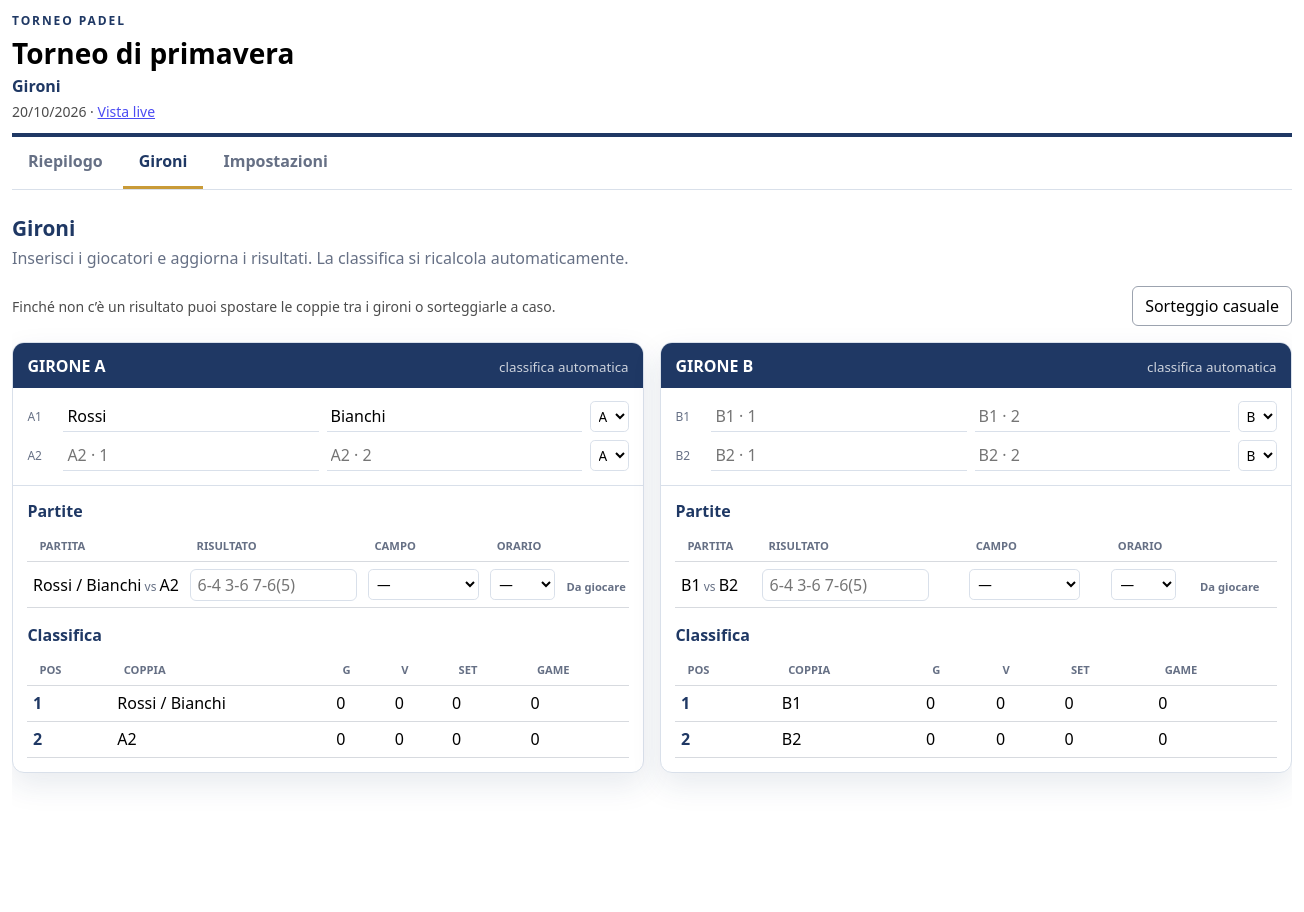
it: TournamentPage › groups tab › saves a result set by set and shows the standings computed by the server
Type "6-3 7-6 (4)" into the field named "Risultato di Rossi / Bianchi – A2" at (274, 585), box [190, 569, 357, 601]
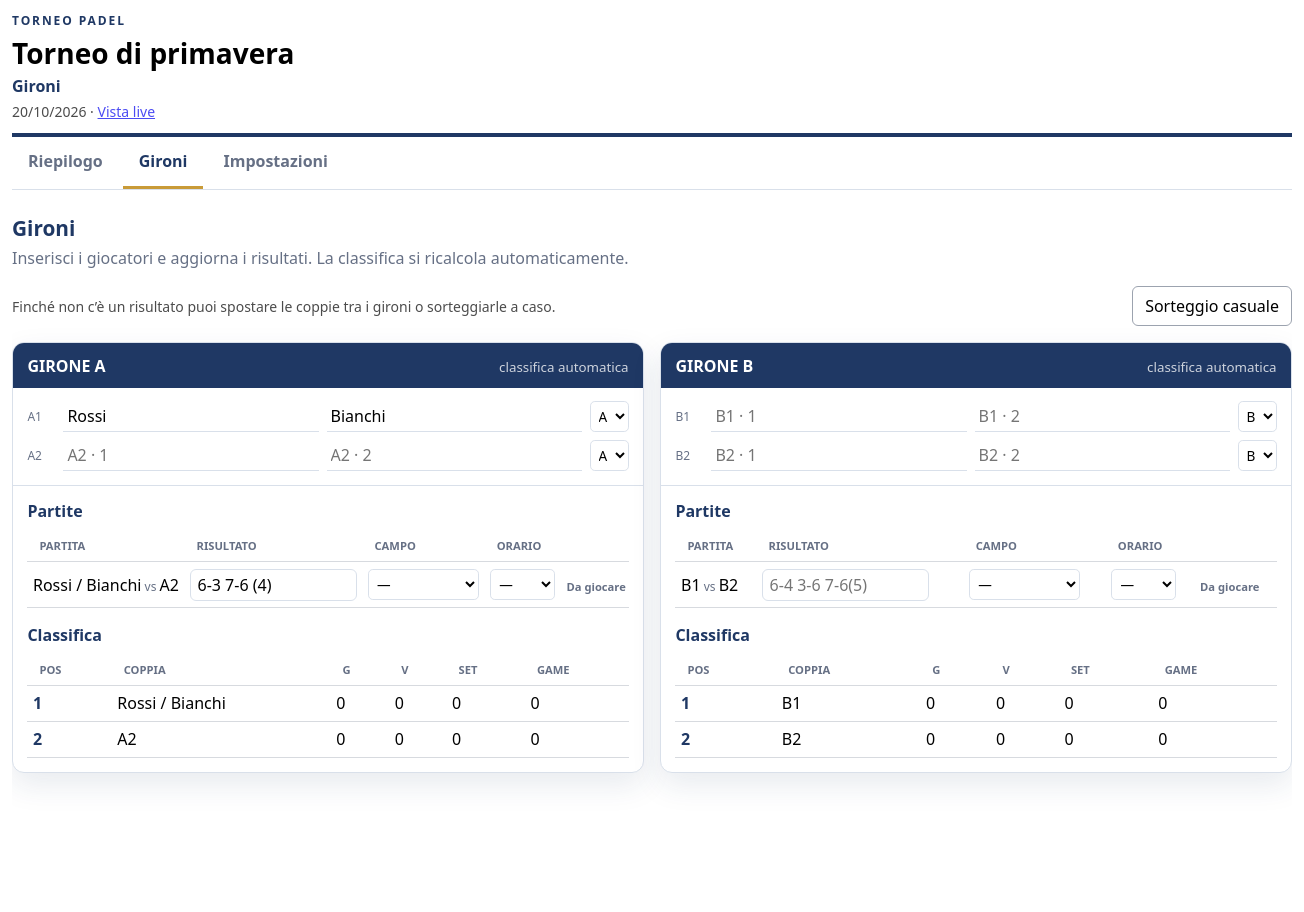
Leave the field named "Risultato di Rossi / Bianchi – A2", box [190, 569, 357, 601]
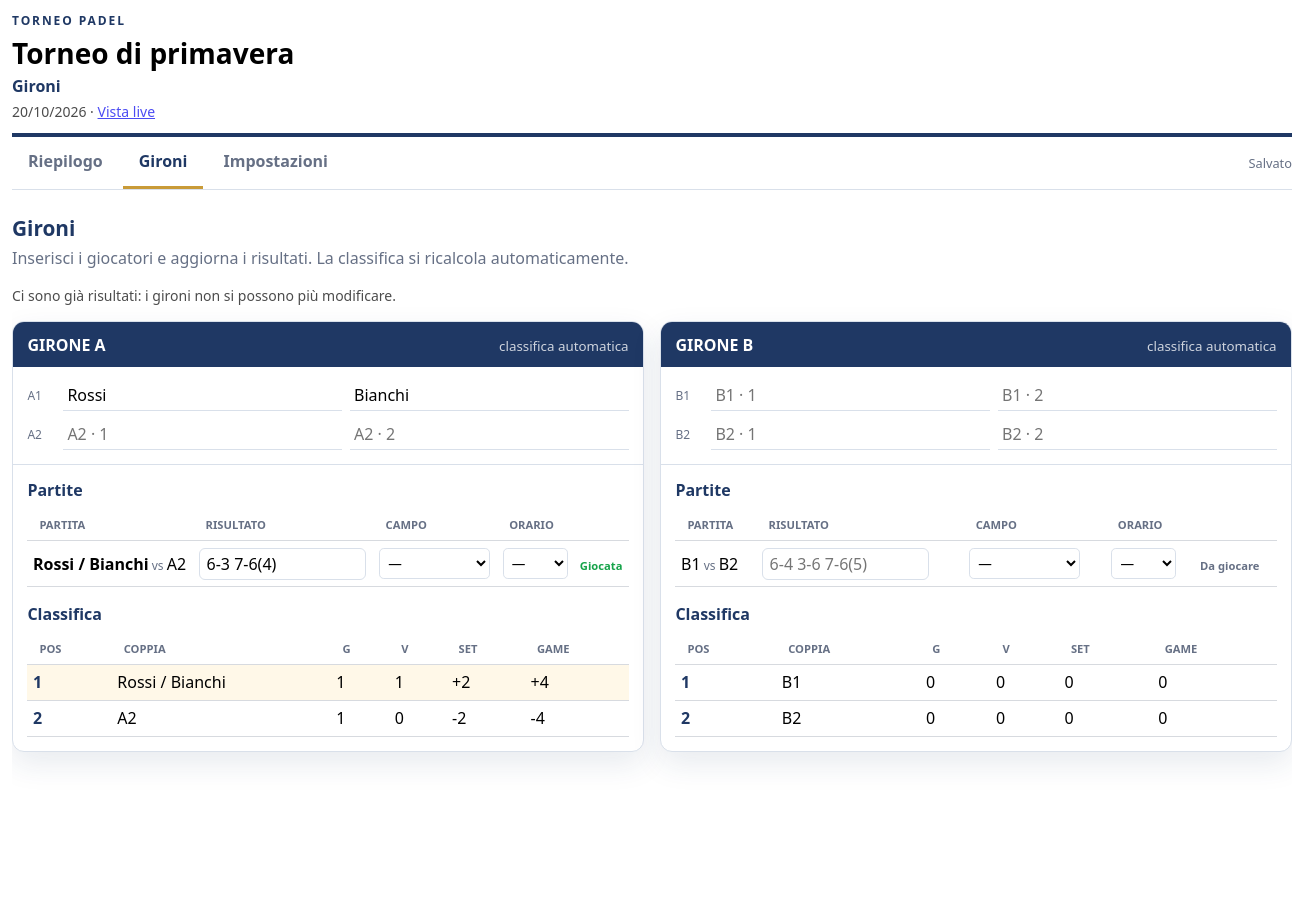
Expected: the text "Giocata" is shown, [580, 558, 622, 573]
Expected: the field named "Risultato di Rossi / Bianchi – A2" holds "6-3 7-6(4)", [199, 548, 366, 580]
Expected: the text "+2" is shown, [446, 665, 525, 700]
